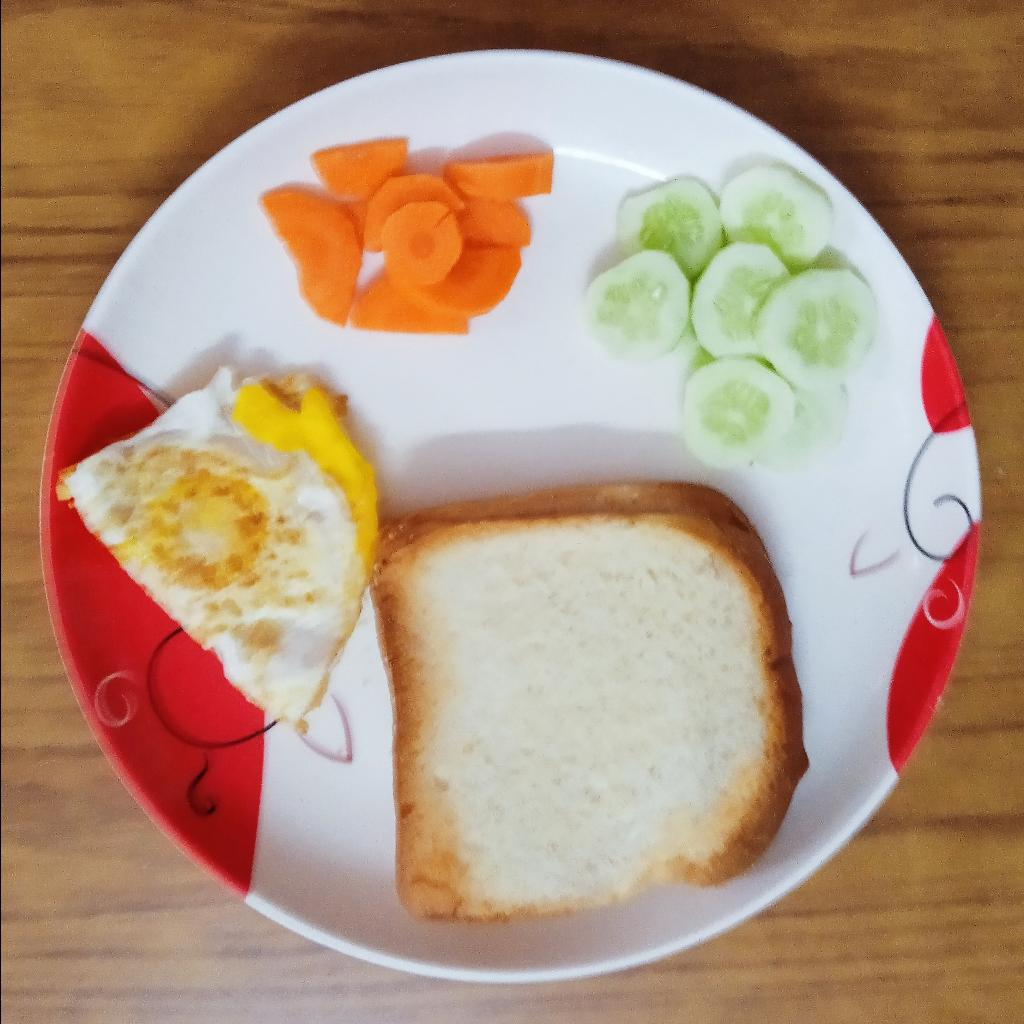bread: (370, 478, 811, 931)
carrot: (258, 138, 556, 332)
cucumber: (582, 169, 877, 472)
egg-poached: (55, 363, 383, 725)
